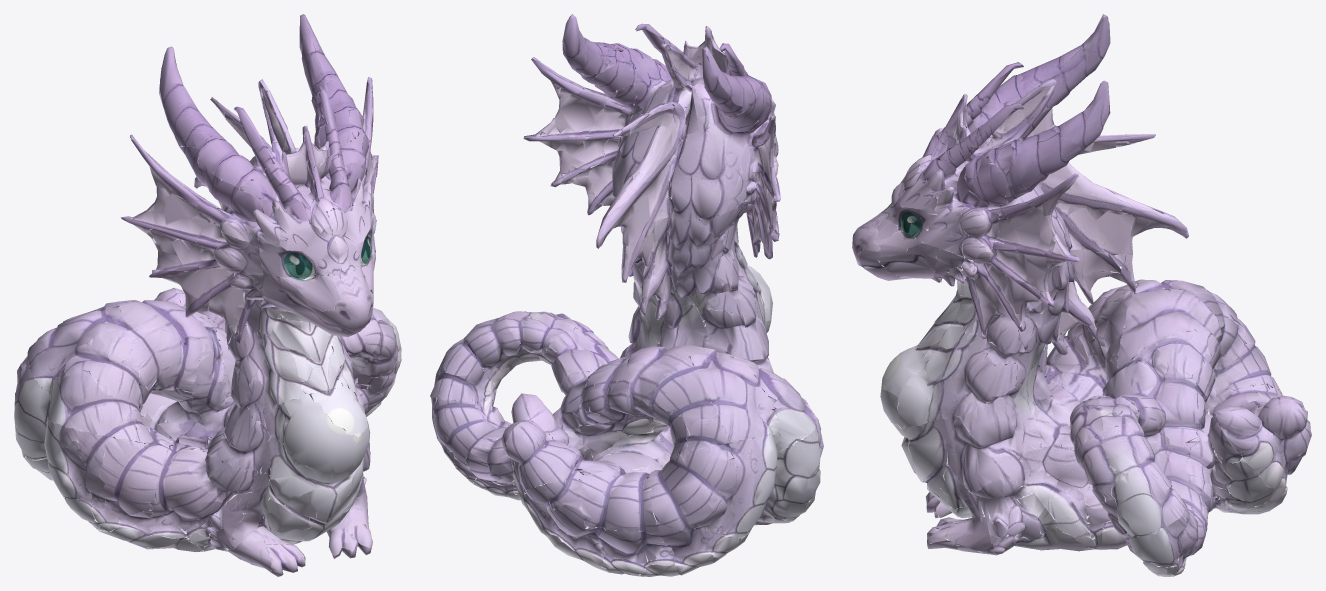
3 views of the same model, side by side, from view 1: azimuth 30°, elevation 25°; view 2: azimuth 150°, elevation 25°; view 3: azimuth 270°, elevation 25° (orthographic).
Visible parts, largest first — view 1: Mesh_0; view 2: Mesh_0; view 3: Mesh_0.
Part boxes in pixels (x1,y1,x2,y2): Mesh_0: (14,14,401,576); Mesh_0: (430,14,823,576); Mesh_0: (852,14,1311,576).
Bounding box in the file's own units: 1.53 × 1.9 × 1.65.
Materials: 1 (1 with a texture image).
